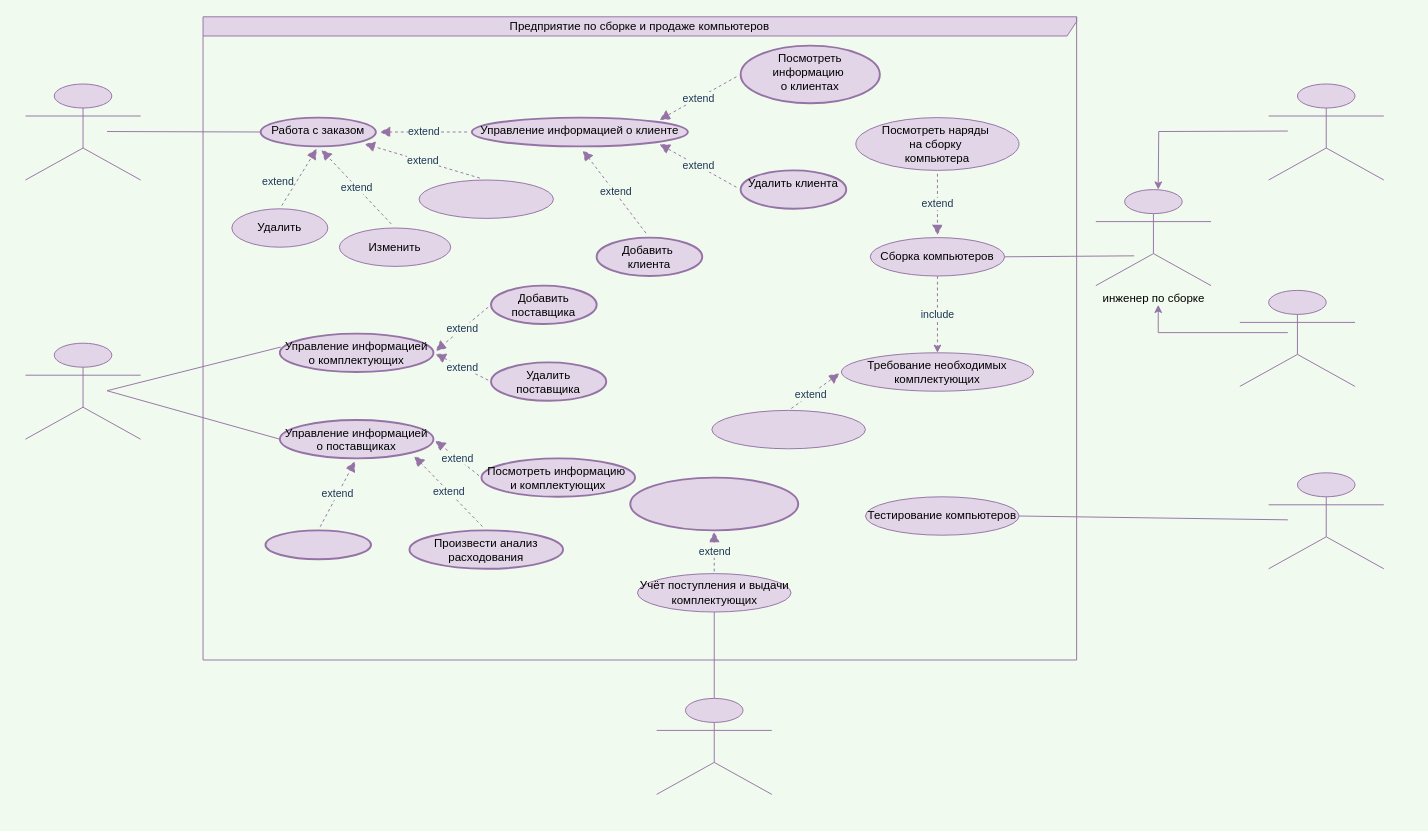
The diagram is 1428 pixels wide and 831 high, and some of its shapes have lost their labels. The shapes that lost their labels are listed below. From the top down, each one's centre as x and y in pixels, then its label:
At (x=82, y=131): "менеджер по работе с клиентами".
At (x=1326, y=131): "инженер по сборке настольных компьютеров".
At (x=485, y=198): "Добавить".
At (x=1297, y=337): "инженер по сборке ноутбуков".
At (x=82, y=390): "менеджер по снабжению".
At (x=788, y=429): "Отметить ход выполнения работ".
At (x=714, y=503): "Вести учет поступления и выдачи запчастей со склада.".
At (x=1326, y=520): "инженер по тестированию".
At (x=318, y=544): "Сделать заказ".
At (x=714, y=745): "завскладом".
